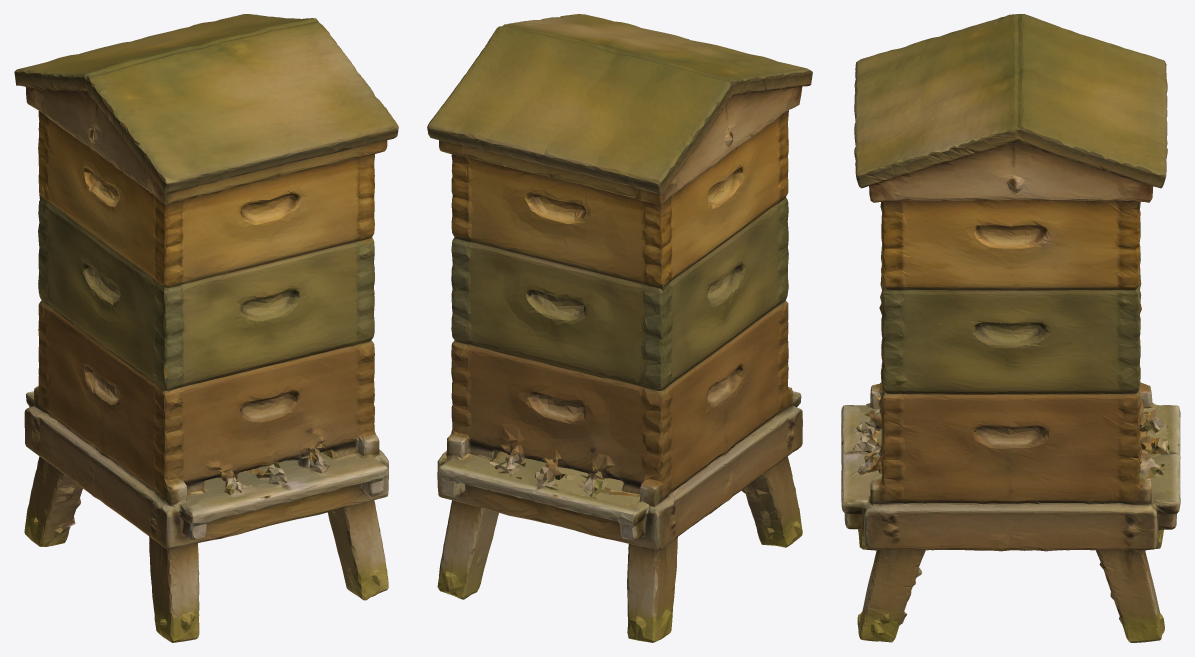
The model's file is wc-apiary-paint.glb.
3 views of the same model, side by side, from view 1: azimuth 30°, elevation 25°; view 2: azimuth 150°, elevation 25°; view 3: azimuth 270°, elevation 25° (orthographic).
Visible parts, largest first — view 1: geometry_0; view 2: geometry_0; view 3: geometry_0.
Boxes of the visible parts, x1,y1,x2,y2 form: geometry_0: (14, 14, 398, 642); geometry_0: (427, 14, 812, 642); geometry_0: (841, 14, 1180, 642).
Bounding box in the file's own units: 0.9455 × 2 × 1.17.
Materials: 1 (1 with a texture image).
